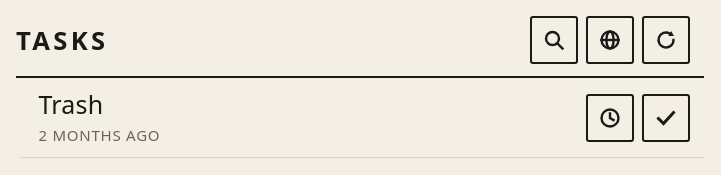
App › moves a chore by the days chosen and says so on the row
Click the button named "Reschedule Trash": (610, 118) [586, 94, 634, 142]
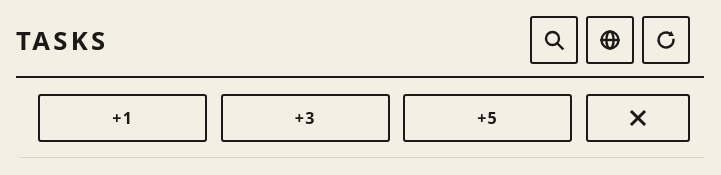
Click the button named "Move Trash 3 days later": (305, 118) [221, 94, 390, 142]
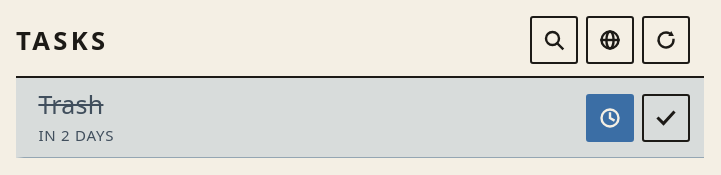
Expected: the text "in 2 days" is shown, [38, 125, 114, 145]
